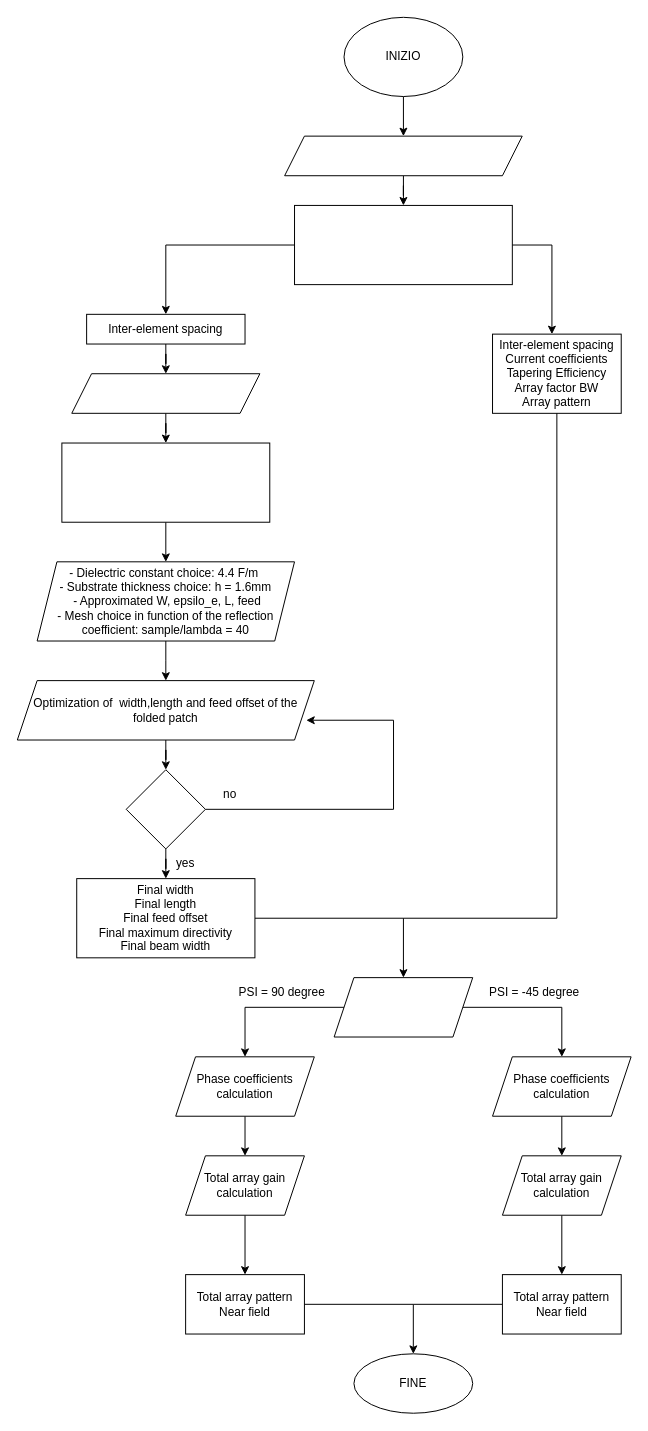
This 648x1431 diagram has some shape labels left out. Here are the shapes that lost their labels. From the top down, the centre of each, then its label:
(403,155): TCHEBYSHEV ARRAY DESIGN
(403,244): Elements number: 5 Main lobe / side lobe ratio: R = 120 caso ottimizzato
(165,393): FOLDED PATCH DESIGN
(165,482): Design frequency: f0= 2.7 GHz Substrate: FR4
(165,809): satisfying results?
(403,1007): PATCHES ARRAY DESIGN
